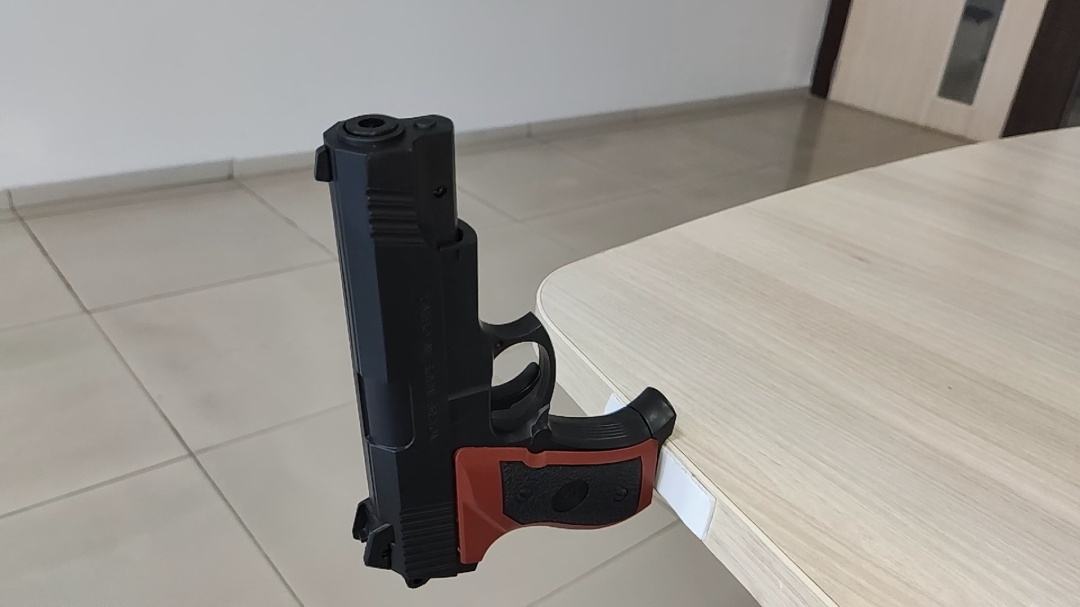gun: (310, 106, 677, 587)
